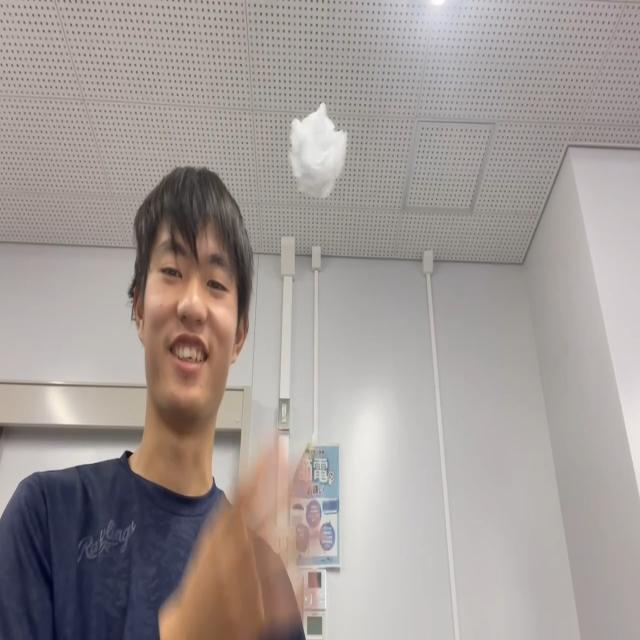paper: (288, 101, 348, 199)
